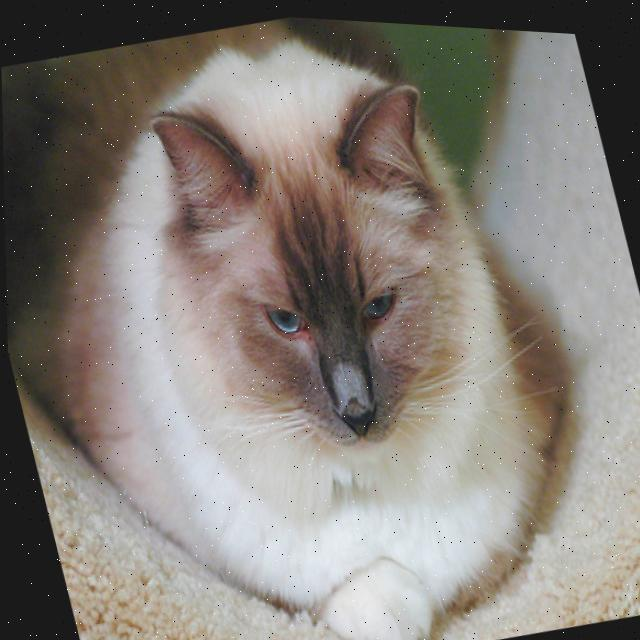Ragdoll: (0, 0, 621, 640)
